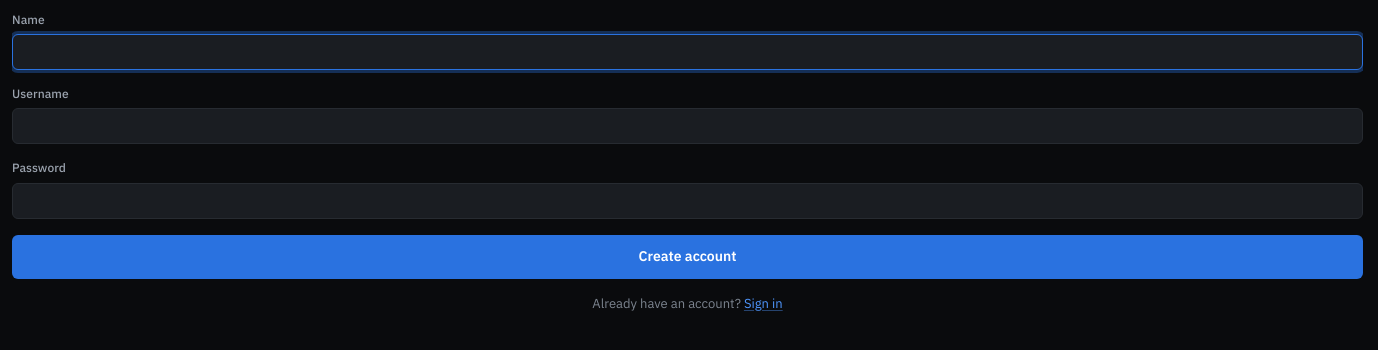
<CredentialsForm /> › shows a server field error against its own input
The image size is (1378, 350).
Type "Alice" into the field labelled "Name".
click(688, 52); type("Alice")  # box [12,34,1363,70]
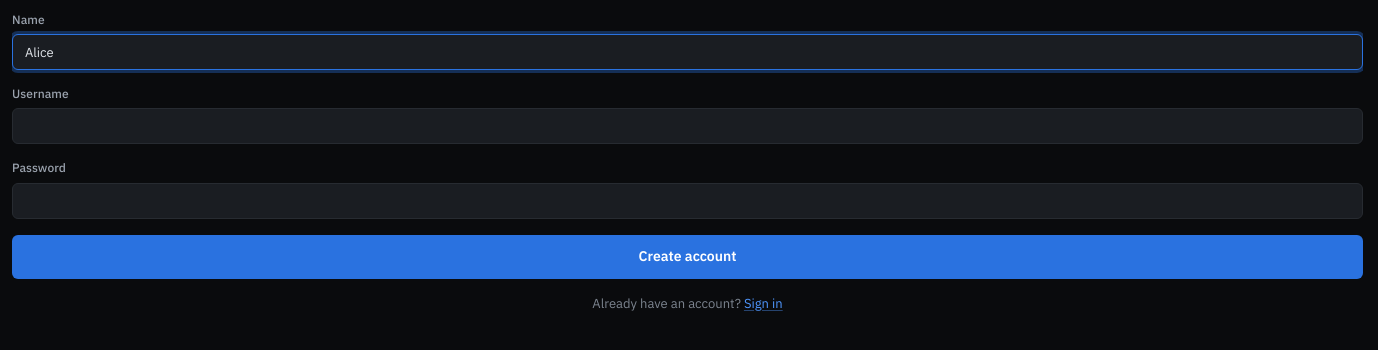
Type "taken" into the field labelled "Username".
click(688, 126); type("taken")  # box [12,108,1363,144]
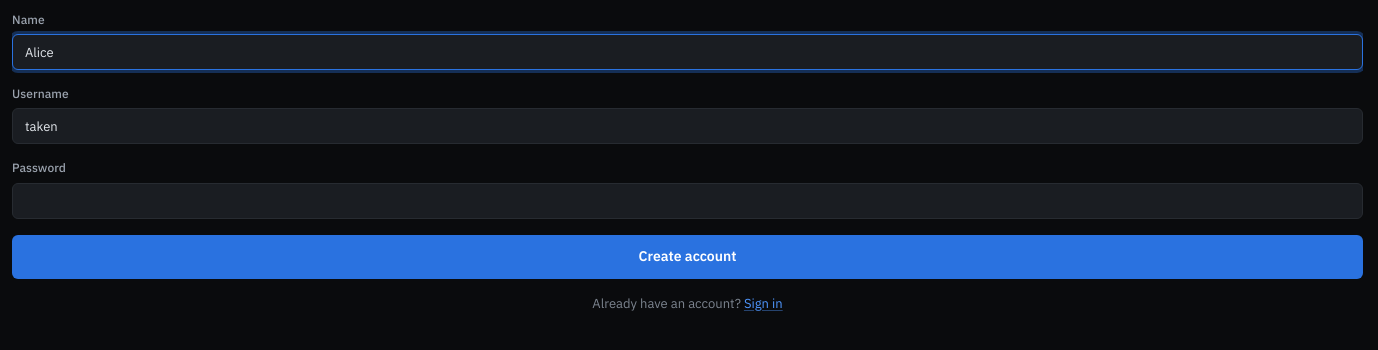
Type "pw123456" into the password field labelled "Password".
click(688, 201); type("pw123456")  # box [12,183,1363,219]
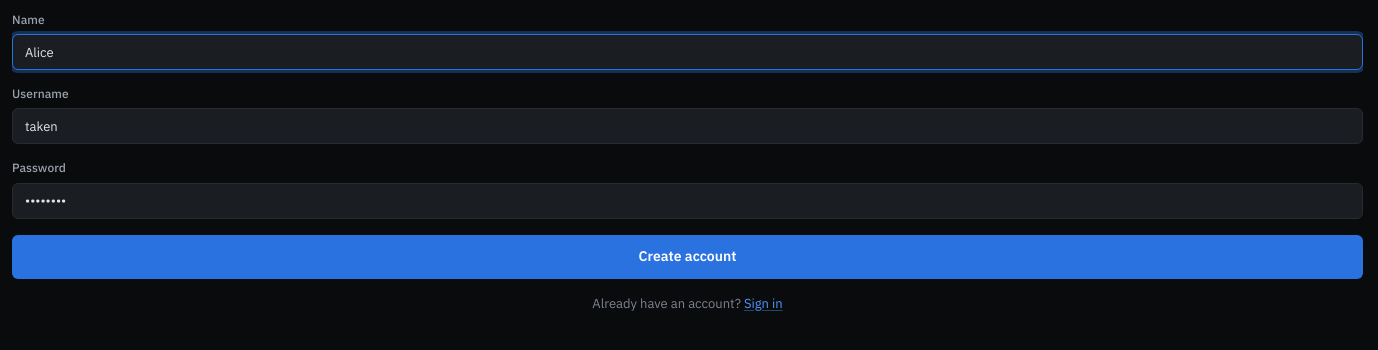
Click the button "Create account".
click(688, 257)  # box [12,235,1363,279]
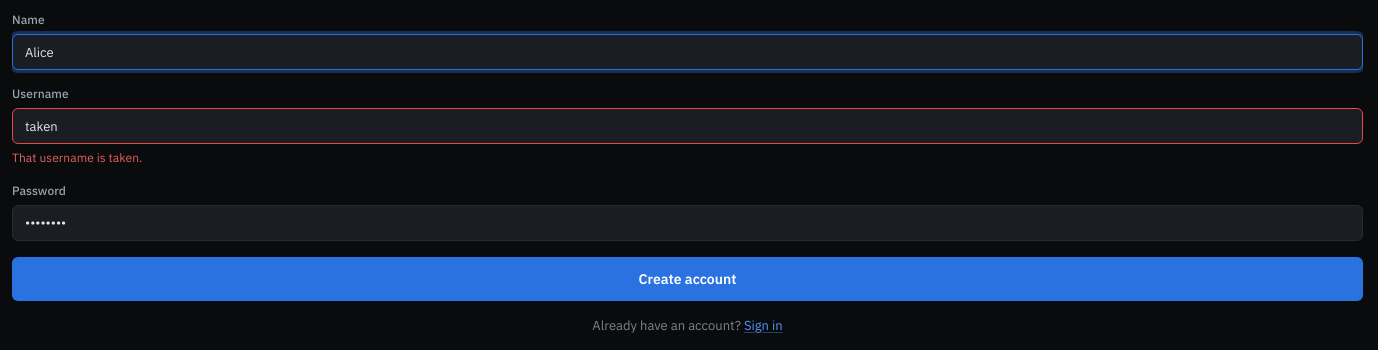
Now the text "That username is taken." is shown, box [12,150,142,165]
